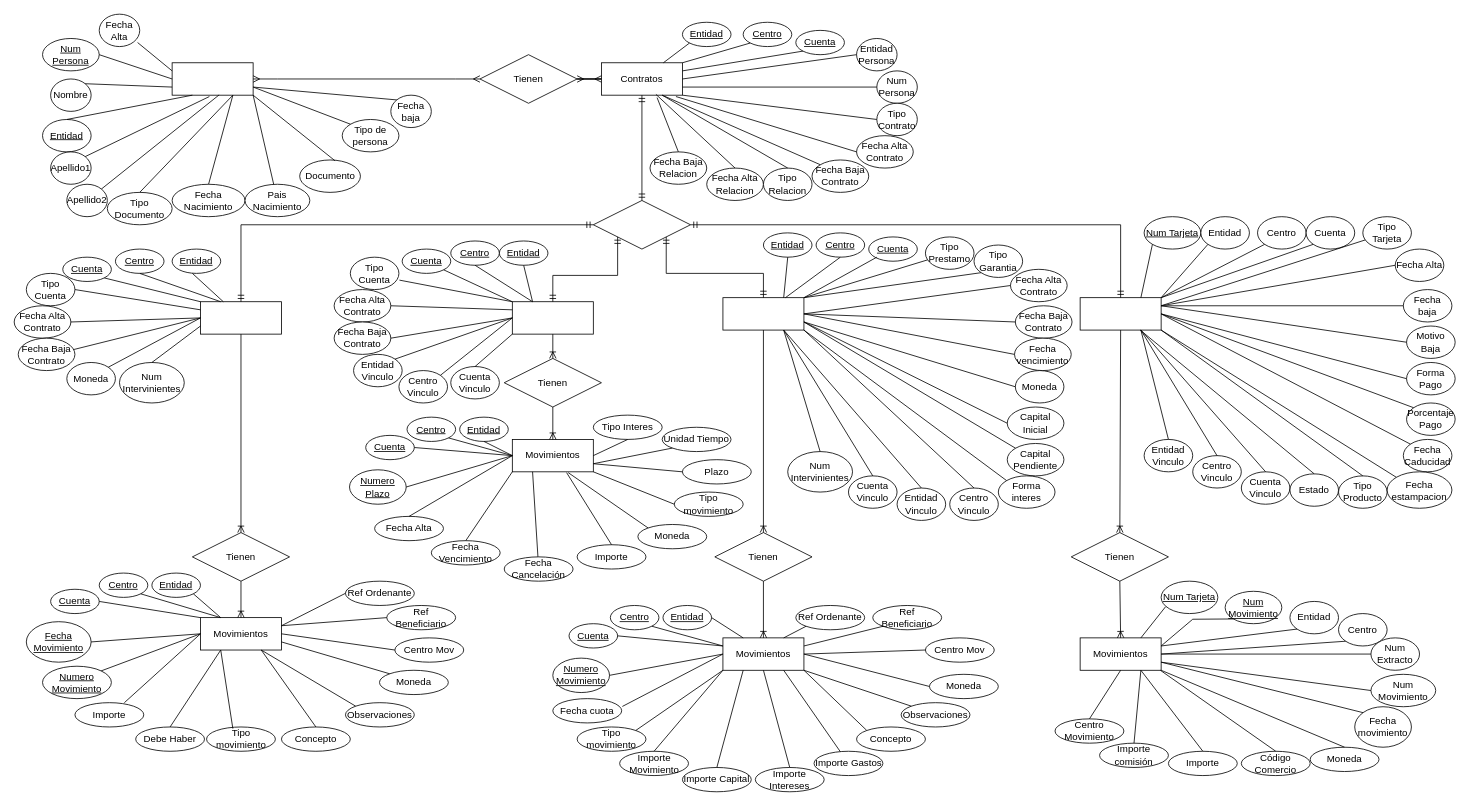
Some shapes in this 1469 by 806 pixel diagram are drawn without their labels. Here are the shapes that lost their labels. From the top down, the box of each, then its label:
(171, 62, 253, 95): Personas
(593, 200, 691, 249): Pueden ser
(200, 301, 281, 334): Cuentas
(512, 301, 593, 334): Pasivo
(722, 297, 804, 330): Prestamos
(1079, 297, 1161, 330): Tarjetas
